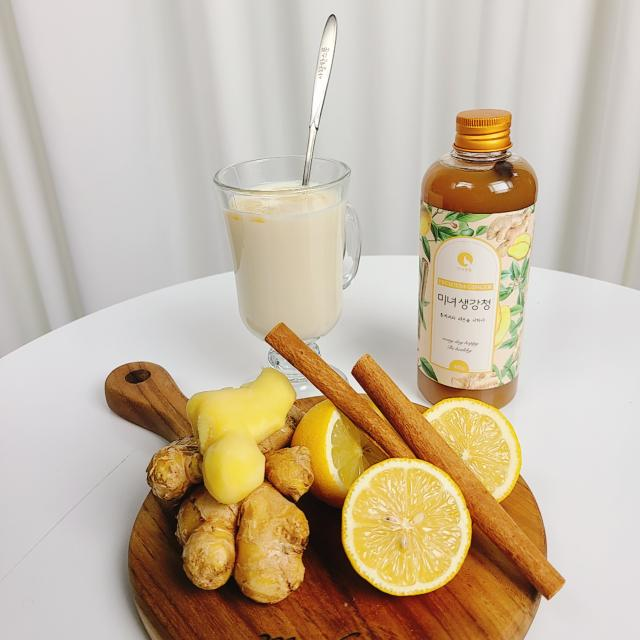ginger: (138, 378, 324, 612)
